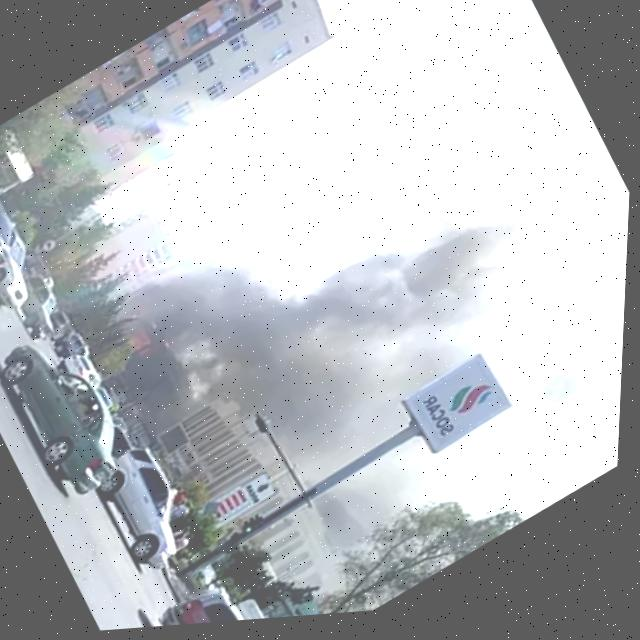Smoke: (108, 77, 571, 468)
